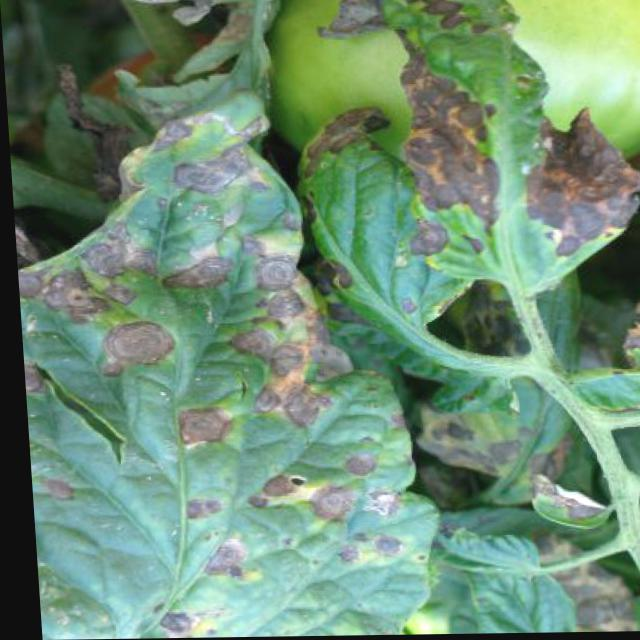Tomato Early blight leaf: (19, 99, 442, 636), (346, 0, 640, 298), (270, 95, 440, 333)
